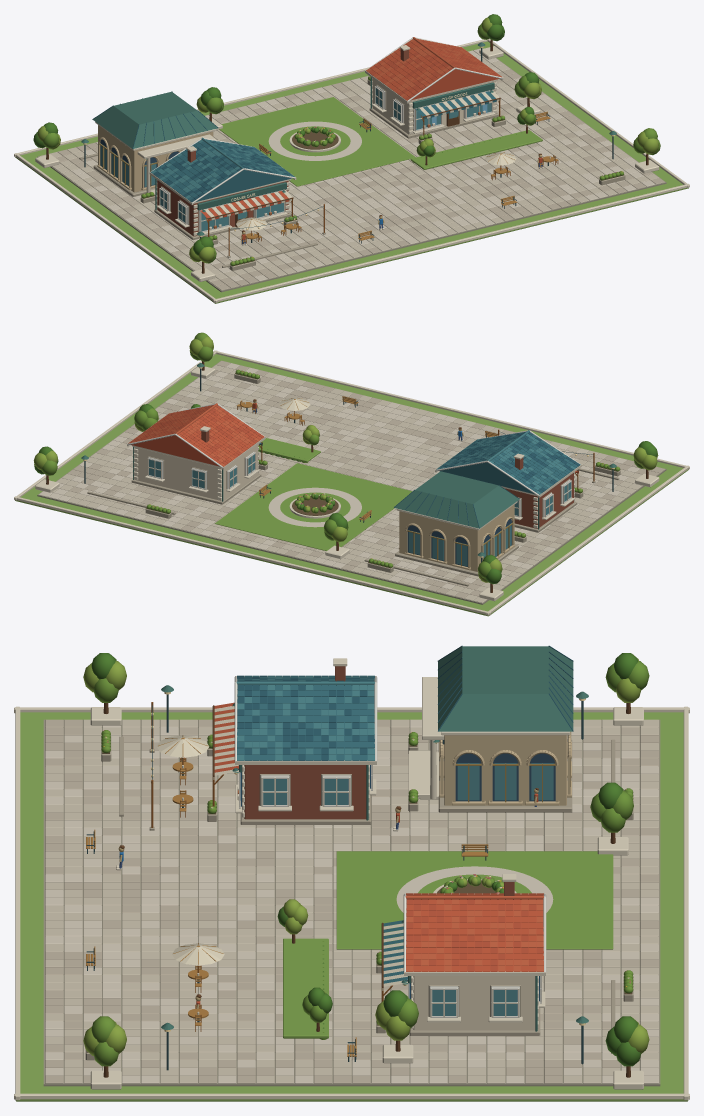
Rendered from level-1.glb.
The picture shows the model from 3 angles, top to bottom: view 1: azimuth 30°, elevation 25°; view 2: azimuth 150°, elevation 25°; view 3: azimuth 270°, elevation 25°; orthographic projection. The views are drawn at different scales.
Parts seen in each view (by area): view 1: finance_level_1_geometry; view 2: finance_level_1_geometry; view 3: finance_level_1_geometry.
Part boxes in pixels (x1,y1,x2,y2): finance_level_1_geometry: [14, 14, 689, 303]; finance_level_1_geometry: [14, 332, 689, 616]; finance_level_1_geometry: [14, 645, 689, 1101].
Size of the model in its own units: 60 by 8.3 by 44.
